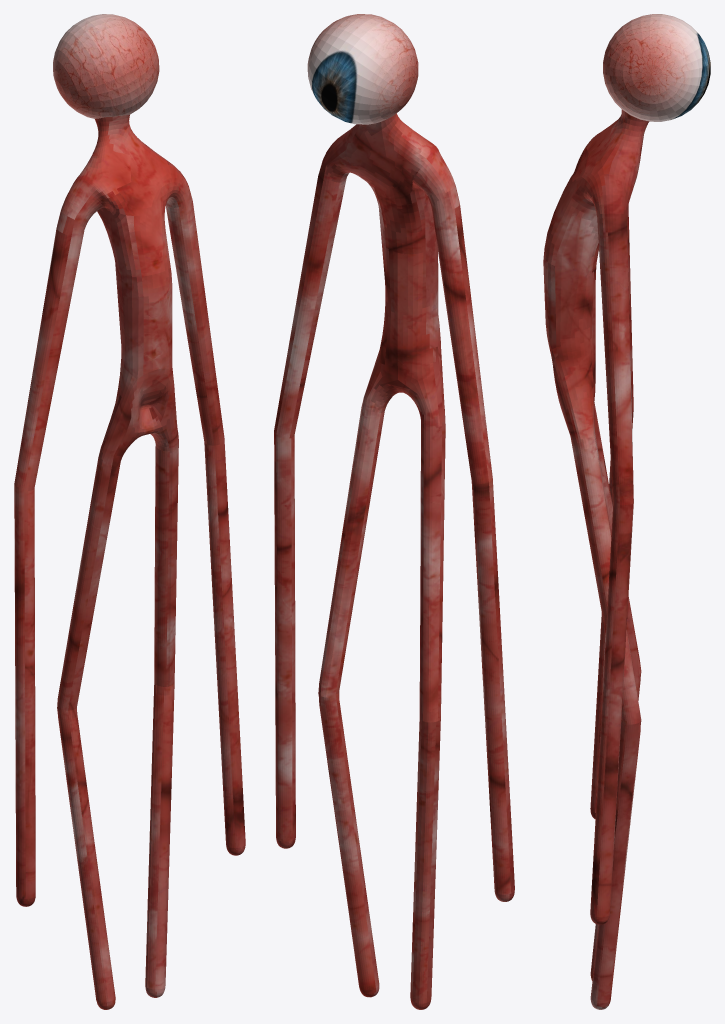
Rendered from NewCreatureTexturedEyeball.fbx.
3 renders of one model, left to right at view 1: azimuth 30°, elevation 25°; view 2: azimuth 150°, elevation 25°; view 3: azimuth 270°, elevation 25°, orthographic. The views are drawn at different scales.
Parts seen in each view (by area): view 1: Plane, Sphere; view 2: Plane, Sphere; view 3: Plane, Sphere.
Boxes of the visible parts, box(x1,y1,x2,y2) form: Plane: box(14, 114, 245, 1009); Sphere: box(53, 14, 159, 118); Plane: box(274, 113, 514, 1009); Sphere: box(307, 14, 418, 124); Plane: box(543, 109, 649, 1009); Sphere: box(603, 14, 710, 121).
Bounding box in the file's own units: 601 × 2441 × 378.
